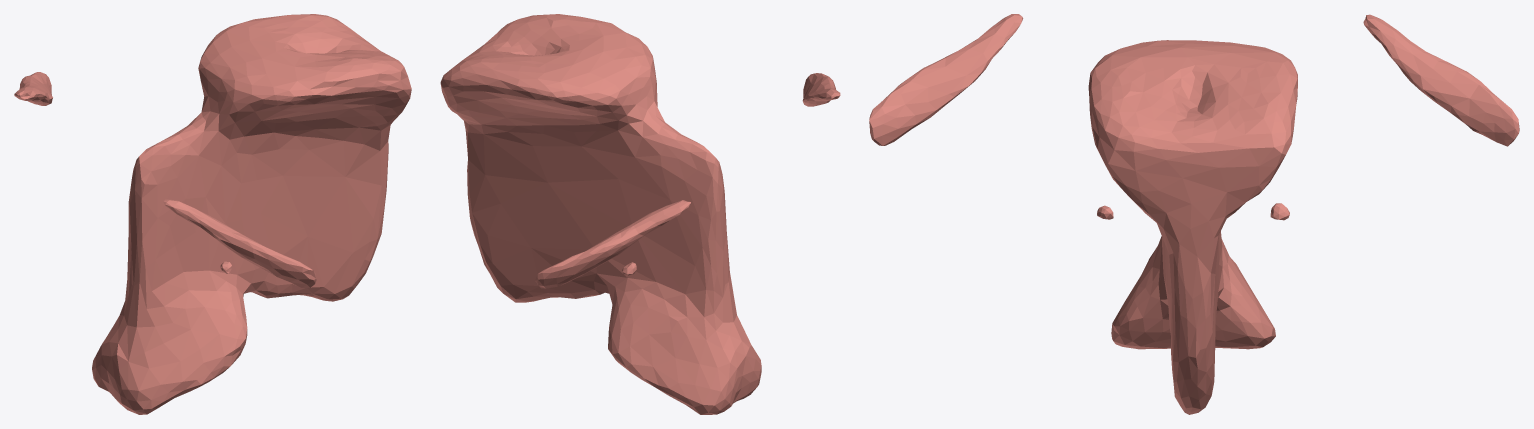
The picture shows the model from 3 angles, left to right: view 1: azimuth 30°, elevation 25°; view 2: azimuth 150°, elevation 25°; view 3: azimuth 270°, elevation 25°; orthographic projection. The views are drawn at different scales.
Parts seen in each view (by area): view 1: 157.obj; view 2: 157.obj; view 3: 157.obj.
Part boxes in pixels (bbox=[...]): 157.obj: bbox=[14, 14, 411, 414]; 157.obj: bbox=[440, 14, 840, 414]; 157.obj: bbox=[869, 14, 1519, 414].
Size of the model in its own units: 1911 by 1949 by 3045.
